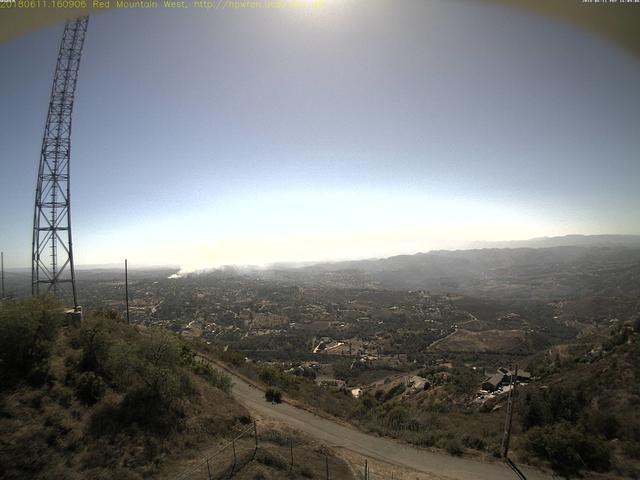smoke: (165, 250, 296, 283)
